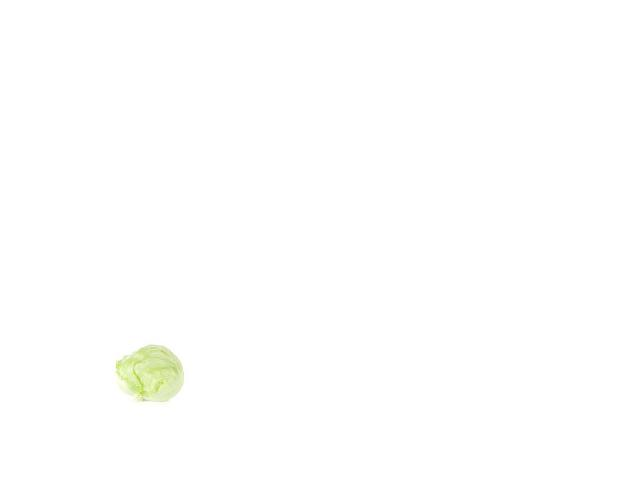lettuce: (107, 338, 190, 402)
